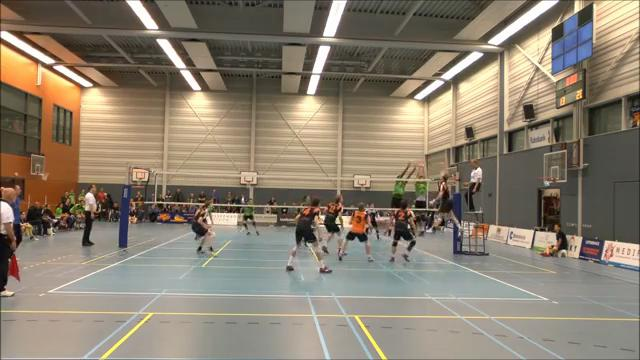Attack: (420, 168, 466, 237)
Block: (389, 150, 414, 226), (408, 158, 431, 228)
Player: (286, 198, 331, 273), (338, 203, 373, 261), (390, 200, 415, 261), (322, 195, 344, 254), (192, 201, 214, 252), (242, 199, 259, 235), (367, 203, 379, 239)
ball: (417, 162, 425, 174)
